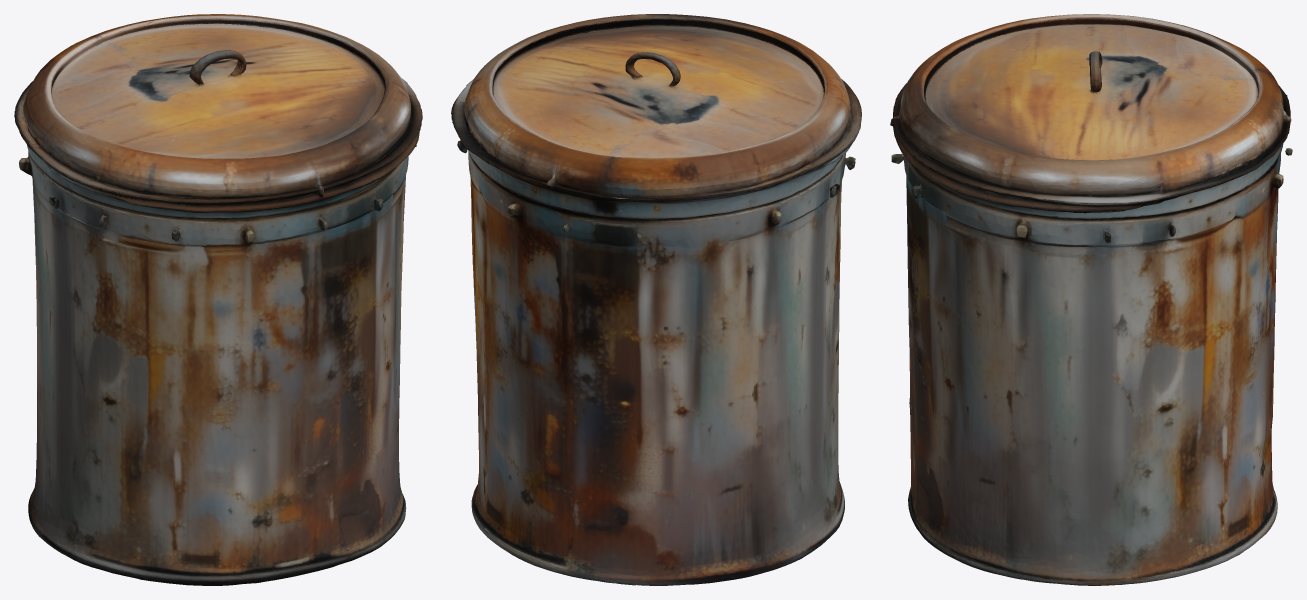
The model's file is garbage_can_42_20251230_114024_20251230_115141.glb.
3 renders of one model, left to right at view 1: azimuth 30°, elevation 25°; view 2: azimuth 150°, elevation 25°; view 3: azimuth 270°, elevation 25°, orthographic.
Parts seen in each view (by area): view 1: world; view 2: world; view 3: world.
Boxes of the visible parts, left/top/right/bottom form: world: left=14, top=14, right=422, bottom=585; world: left=451, top=14, right=861, bottom=585; world: left=890, top=14, right=1292, bottom=585.
Size of the model in its own units: 0.8103 by 1 by 0.8035.
1 material, 1 textured.
